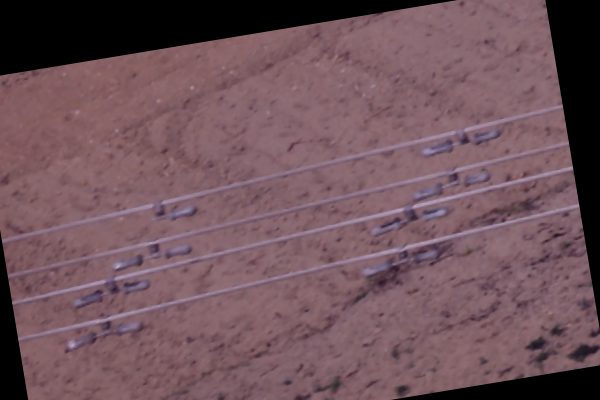damper: (65, 314, 146, 351), (110, 236, 193, 272), (412, 164, 491, 201), (359, 243, 442, 278), (419, 124, 501, 159), (69, 276, 152, 309), (369, 203, 449, 237)
damper_defect: (146, 198, 197, 227)
